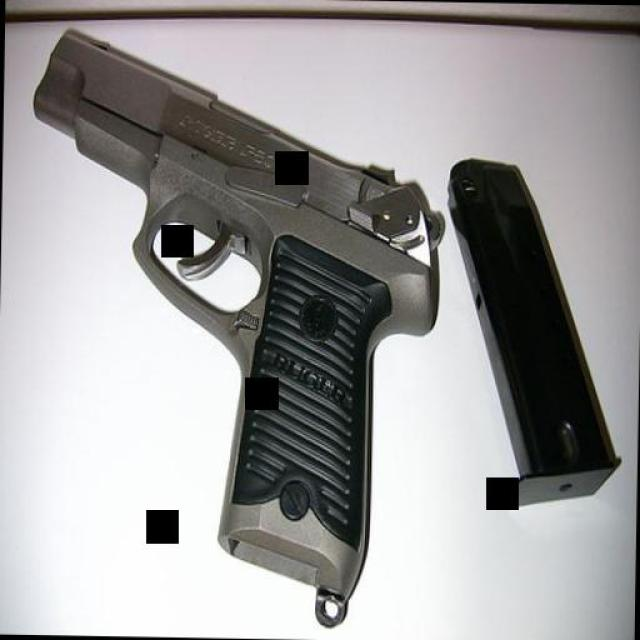gun: (7, 25, 445, 595)
